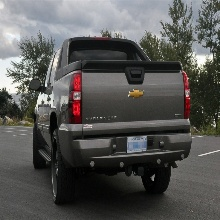no damage: (28, 37, 192, 206)
